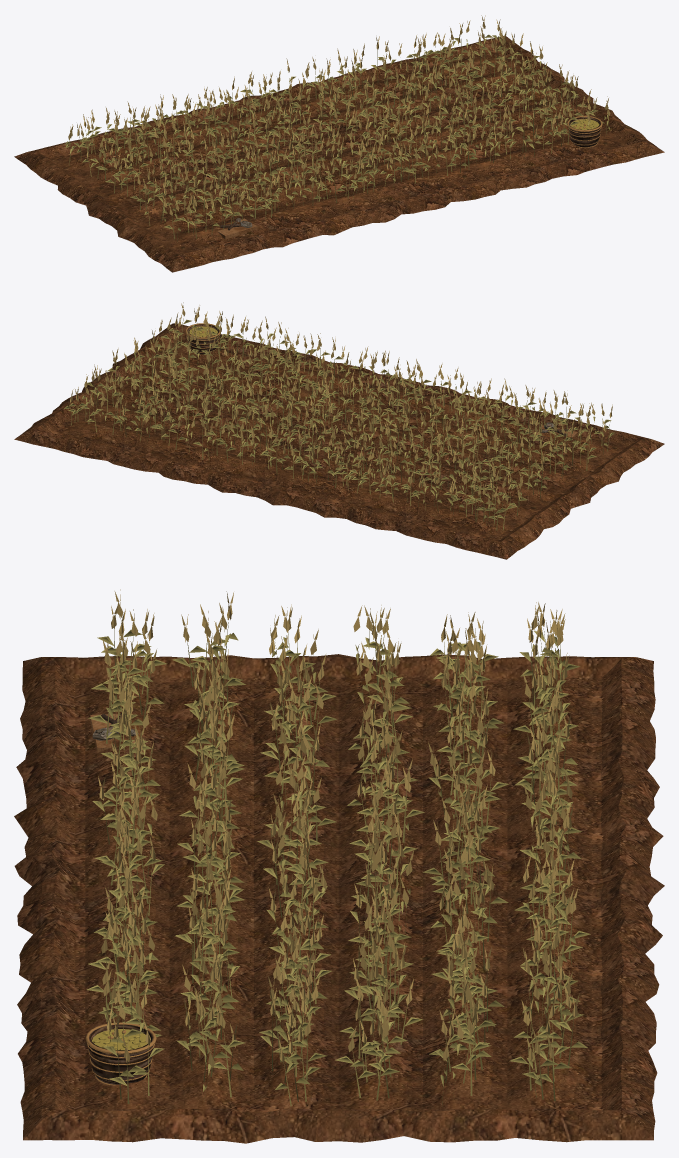
Rendered from field.glb.
3 renders of one model, top to bottom at view 1: azimuth 30°, elevation 25°; view 2: azimuth 150°, elevation 25°; view 3: azimuth 270°, elevation 25°, orthographic. The views are drawn at different scales.
Parts seen in each view (by area): view 1: part_7, part_8, part_9, part_0; view 2: part_7, part_8, part_9, part_0; view 3: part_7, part_8, part_9, part_0, part_1.
Part boxes in pixels (bbox=[...]): part_7: bbox=[27, 36, 651, 260]; part_8: bbox=[65, 15, 610, 241]; part_9: bbox=[14, 36, 664, 272]; part_0: bbox=[568, 117, 601, 147]; part_7: bbox=[27, 323, 651, 547]; part_8: bbox=[64, 302, 614, 530]; part_9: bbox=[14, 323, 664, 559]; part_0: bbox=[187, 324, 219, 354]; part_7: bbox=[35, 654, 642, 1123]; part_8: bbox=[86, 589, 590, 1106]; part_9: bbox=[14, 657, 664, 1143]; part_0: bbox=[88, 1024, 153, 1084]; part_1: bbox=[85, 1022, 156, 1085].
Size of the model in its own units: 7.4 by 0.7524 by 4.18.
Materials: 10 (6 with a texture image).
